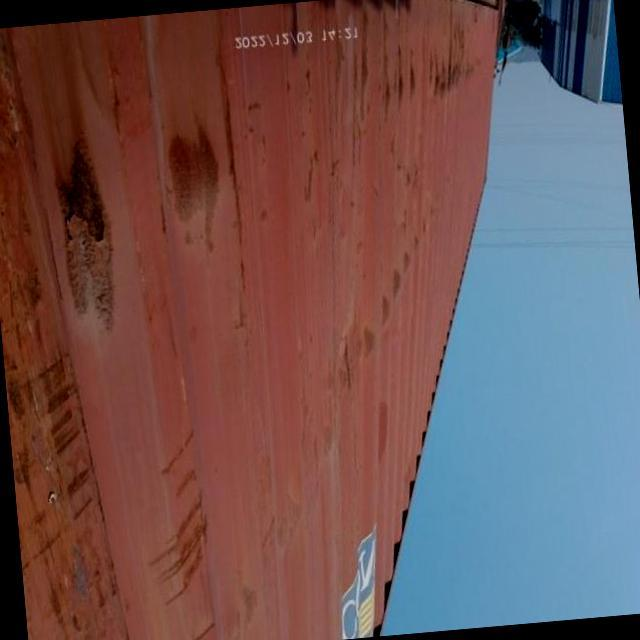rust: (52, 141, 113, 292)
